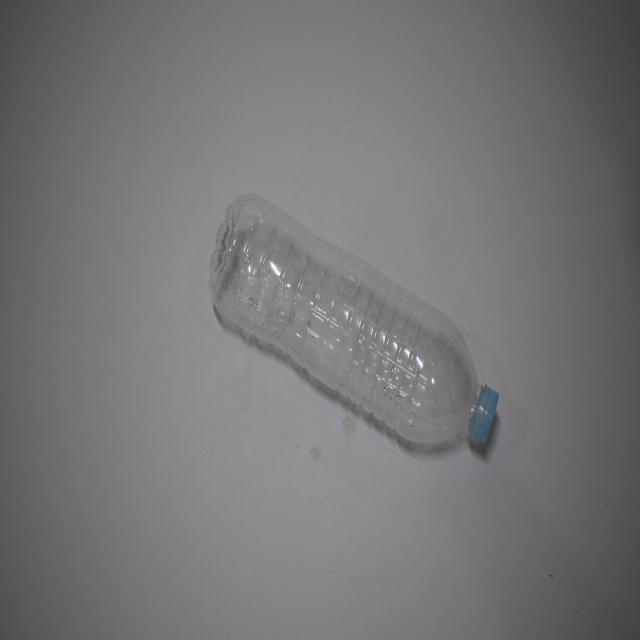empty: (210, 194, 499, 444)
